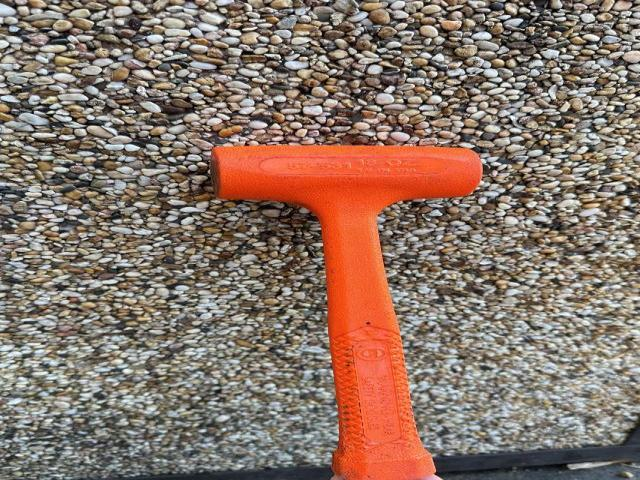hammer: (208, 144, 485, 480)
